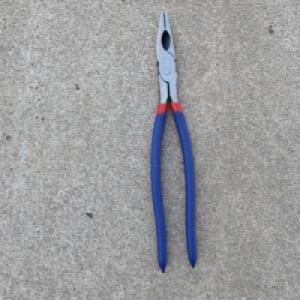Pliers: (148, 8, 198, 275)
